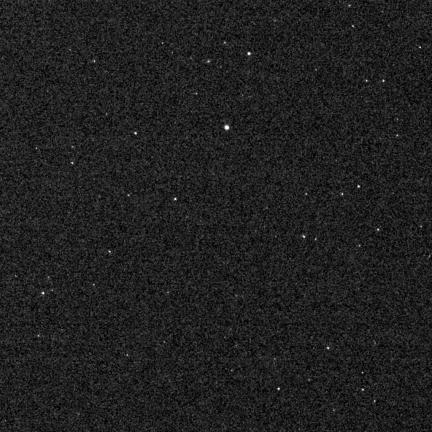blob: (225, 125, 229, 130), (357, 185, 361, 189), (134, 132, 138, 135), (174, 198, 178, 201), (278, 388, 281, 391), (248, 52, 251, 55)
